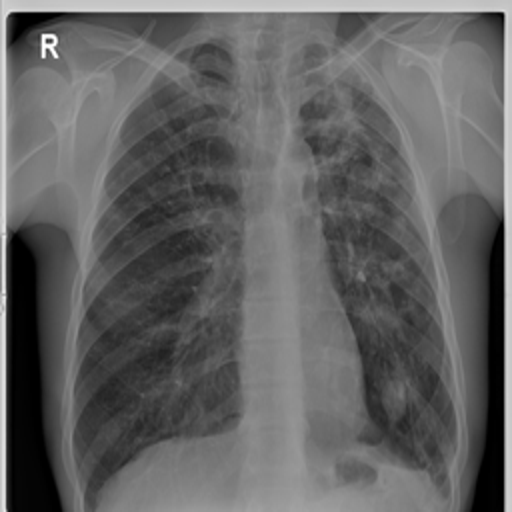TB: (321, 78, 373, 152), (345, 239, 405, 294), (376, 374, 411, 419)
